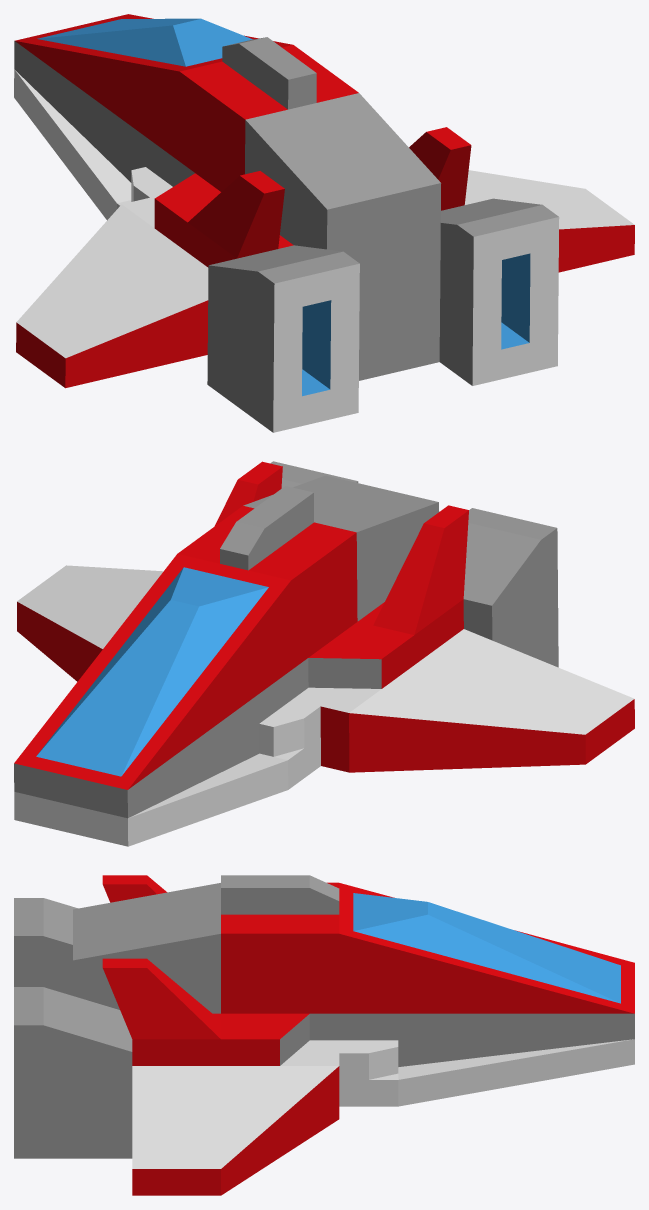
The model's file is nave2.glb.
3 views of the same model, one above another, from view 1: azimuth 30°, elevation 25°; view 2: azimuth 150°, elevation 25°; view 3: azimuth 270°, elevation 25° (orthographic). The views are drawn at different scales.
Visible parts, largest first — view 1: craft_speederA; view 2: craft_speederA; view 3: craft_speederA.
Part boxes in pixels (left/top/right/bottom): craft_speederA: left=14, top=14, right=634, bottom=432; craft_speederA: left=14, top=461, right=634, bottom=846; craft_speederA: left=14, top=875, right=634, bottom=1195.
Size of the model in its own units: 2 by 0.805 by 2.1.
